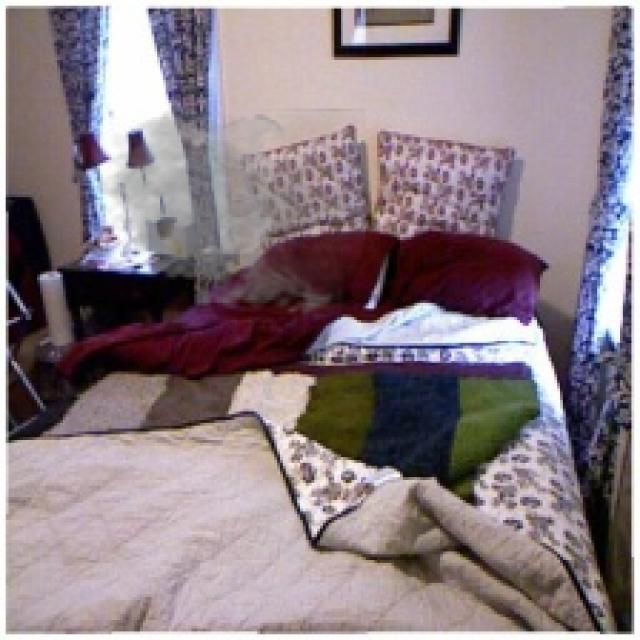smoke: (88, 109, 366, 320)
